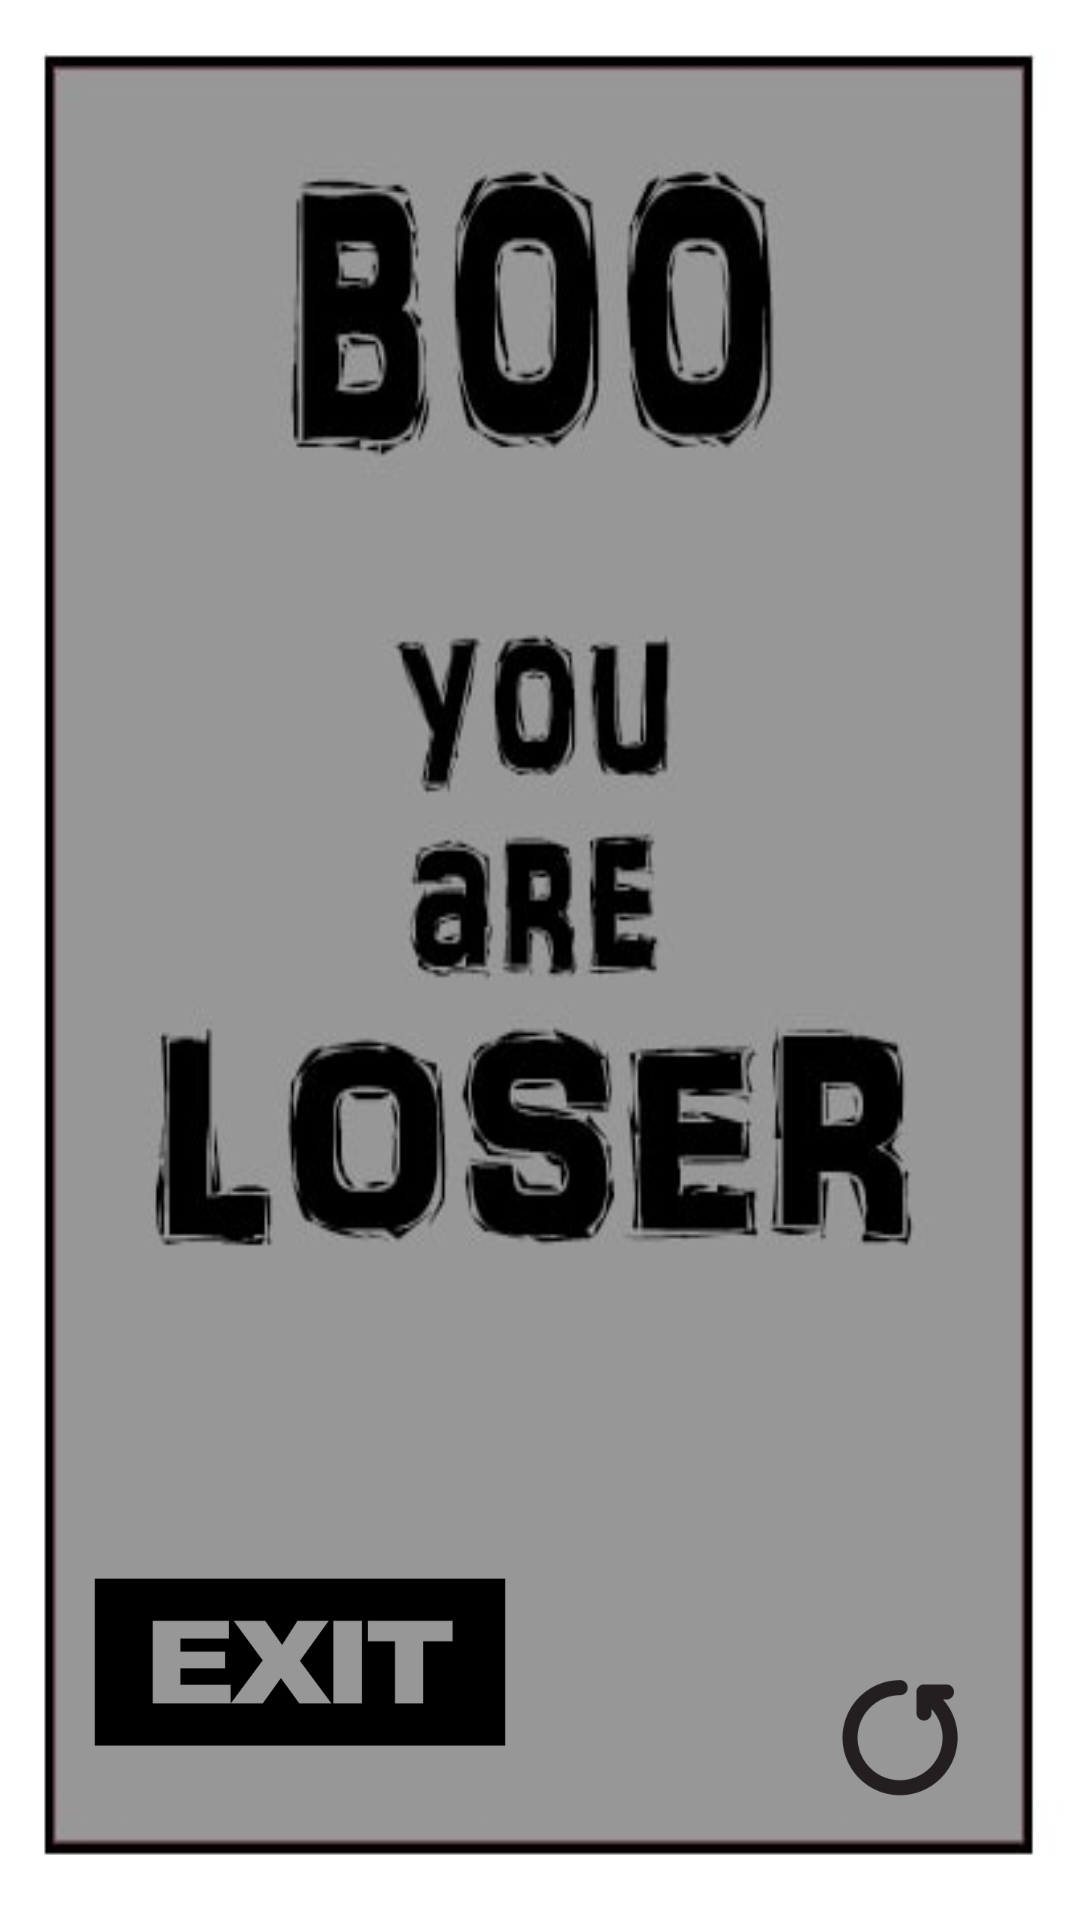

Icons on this 1080w x 1920h Android screen, each with the point to tap as (x=x, y=y):
again: (x=900, y=1738)
